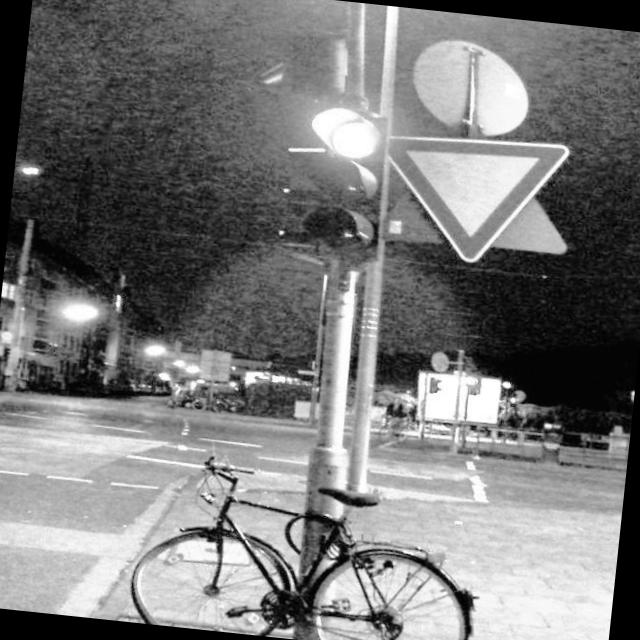Bicycle: (110, 427, 572, 640)
